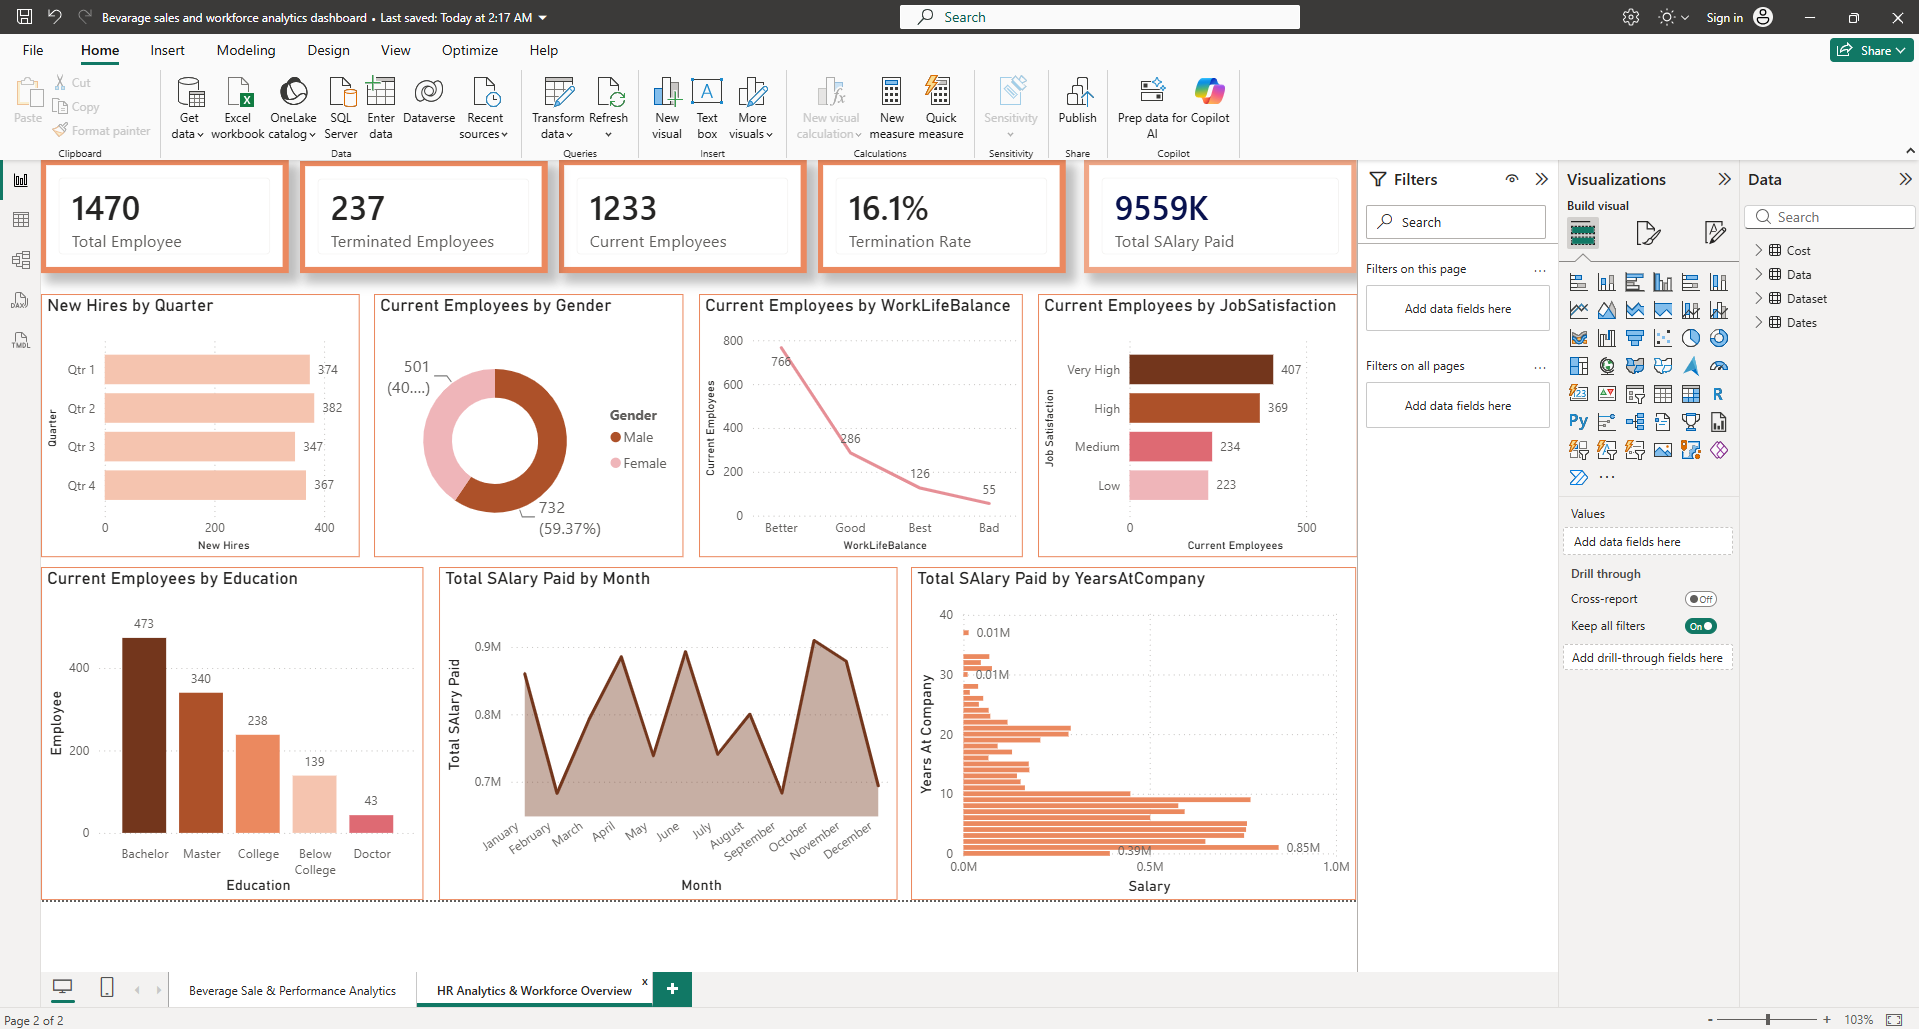

What the dashboard file says about the page in this screenshot:
{"tool":"powerbi","page":{"name":"HR Analytics & Workforce Overview","canvas":[1280,720],"ordinal":1},"visuals":[{"type":"cardVisual","fields":{"Data":["Dataset.Total Employee"]},"box":[0,0,241,109.8],"z":0},{"type":"cardVisual","fields":{"Data":["Dataset.Current Employees"]},"box":[503.7,0,240.7,109.9],"z":1000},{"type":"cardVisual","fields":{"Data":["Dataset.Terminated Employees"]},"box":[251.9,1.2,240.7,108.6],"z":2000},{"type":"cardVisual","fields":{"Data":["Dataset.Termination Rate","select","Dataset.Termination Rate"]},"box":[755.6,0,240.7,109.9],"z":3000},{"type":"cardVisual","fields":{"Data":["Dataset.Total SAlary Paid"]},"box":[1014.8,0,265.4,109.9],"z":4000},{"type":"donutChart","fields":{"Category":["Dataset.Gender"],"Y":["Dataset.Current Employees"]},"box":[323.6,130.6,301.4,255.6],"z":5000},{"type":"clusteredColumnChart","fields":{"Category":["Dataset.Education"],"Y":["Dataset.Current Employees"]},"box":[0,395.8,372.2,323.6],"z":6000},{"type":"clusteredBarChart","fields":{"Category":["Dataset.JobSatisfaction"],"Y":["Dataset.Current Employees"]},"box":[969.4,130.6,311.1,255.6],"z":7000},{"type":"lineChart","fields":{"Category":["Dataset.WorkLifeBalance"],"Y":["Dataset.Current Employees"]},"box":[640.3,130.6,315.3,255.6],"z":8000},{"type":"barChart","fields":{"Category":["Dataset.DateStart.Variation.Date Hierarchy.Quarter"],"Y":["Dataset.New Hires"]},"box":[0,130.6,309.7,255.6],"z":9000},{"type":"areaChart","fields":{"Category":["Dataset.DateStart.Variation.Date Hierarchy.Month"],"Y":["Dataset.Total SAlary Paid"]},"box":[387.5,395.8,445.8,323.6],"z":10000},{"type":"clusteredBarChart","fields":{"Category":["Dataset.YearsAtCompany"],"Y":["Dataset.Total SAlary Paid"]},"box":[846.3,396.3,433.3,324.1],"z":11000}]}

Visuals, with their boxes on the page's 1280x720 design canvas (x1, y1, x2, y2). These are canvas units, not pixel positions in the 1919x1029 screenshot, which may show the page scaled, cropped or inside an application window:
cardVisual - Dataset.Total Employee: [x1=0, y1=0, x2=241, y2=110]
cardVisual - Dataset.Current Employees: [x1=504, y1=0, x2=744, y2=110]
cardVisual - Dataset.Terminated Employees: [x1=252, y1=1, x2=493, y2=110]
cardVisual - Dataset.Termination Rate x select: [x1=756, y1=0, x2=996, y2=110]
cardVisual - Dataset.Total SAlary Paid: [x1=1015, y1=0, x2=1280, y2=110]
donutChart - Dataset.Gender x Dataset.Current Employees: [x1=324, y1=131, x2=625, y2=386]
clusteredColumnChart - Dataset.Education x Dataset.Current Employees: [x1=0, y1=396, x2=372, y2=719]
clusteredBarChart - Dataset.JobSatisfaction x Dataset.Current Employees: [x1=969, y1=131, x2=1280, y2=386]
lineChart - Dataset.WorkLifeBalance x Dataset.Current Employees: [x1=640, y1=131, x2=956, y2=386]
barChart - Dataset.DateStart.Variation.Date Hierarchy.Quarter x Dataset.New Hires: [x1=0, y1=131, x2=310, y2=386]
areaChart - Dataset.DateStart.Variation.Date Hierarchy.Month x Dataset.Total SAlary Paid: [x1=388, y1=396, x2=833, y2=719]
clusteredBarChart - Dataset.YearsAtCompany x Dataset.Total SAlary Paid: [x1=846, y1=396, x2=1280, y2=720]
